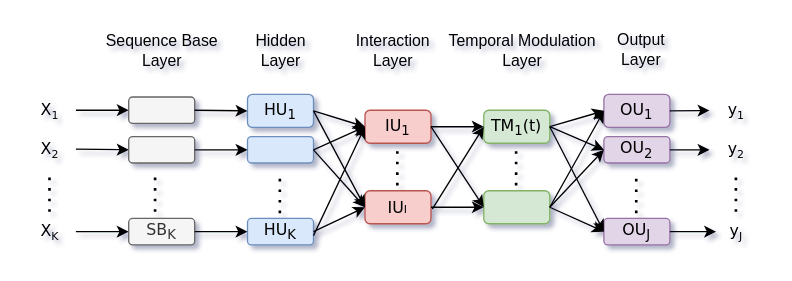
The diagram is 792 pixels wide and 281 high, and some of its shapes have lost their labels. The box of each missing label's shape, as (x1, y1, x2, y2) in pixels:
HU 2: (246, 135, 314, 163)
SB 1: (127, 96, 195, 123)
SB 2: (127, 135, 195, 163)
TM Φ (t): (482, 189, 550, 224)
